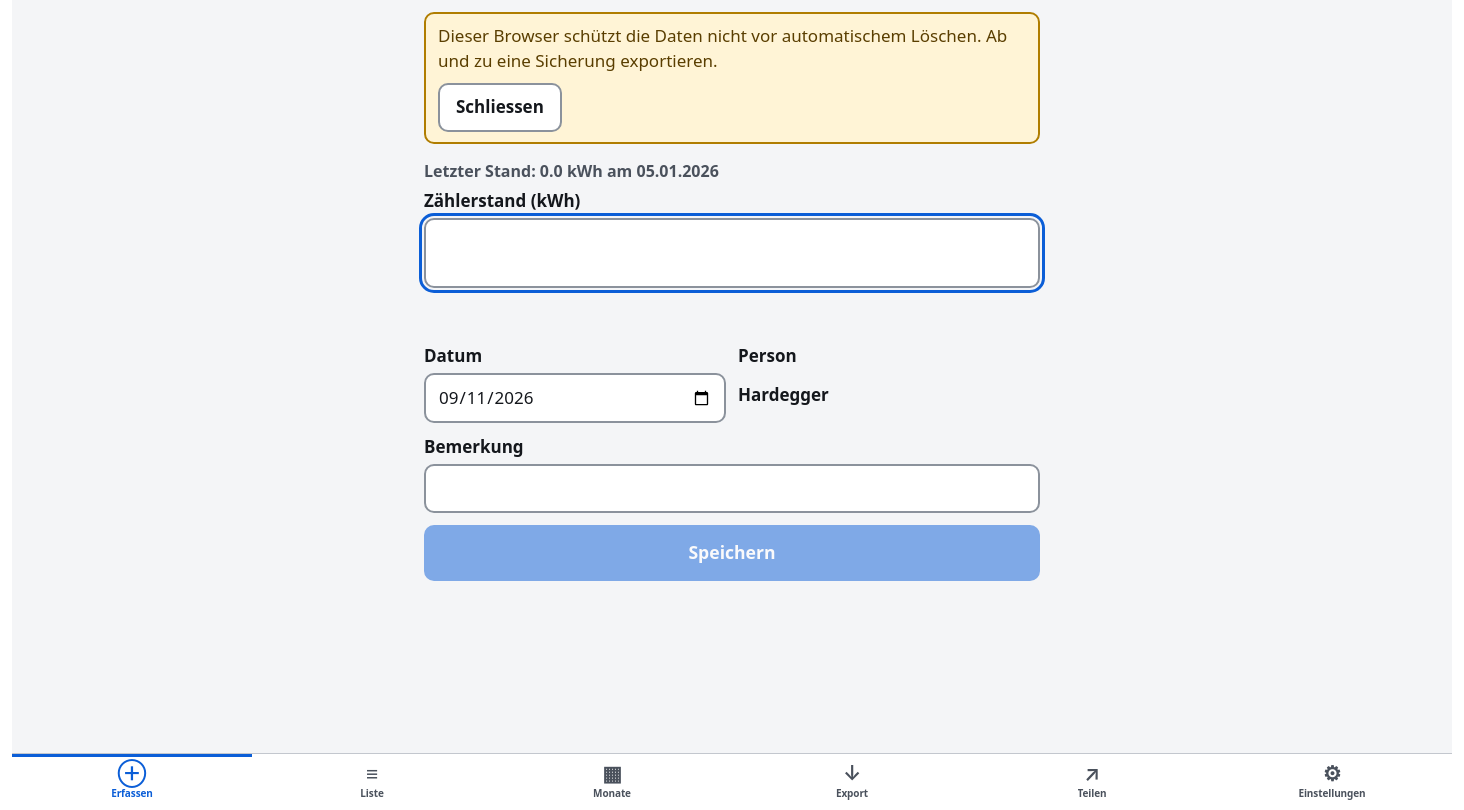
it: the monthly overview (FR-5) › says so when nothing has been consumed yet
Click the button "▦ Monate" at (612, 782), box [492,754,732,809]
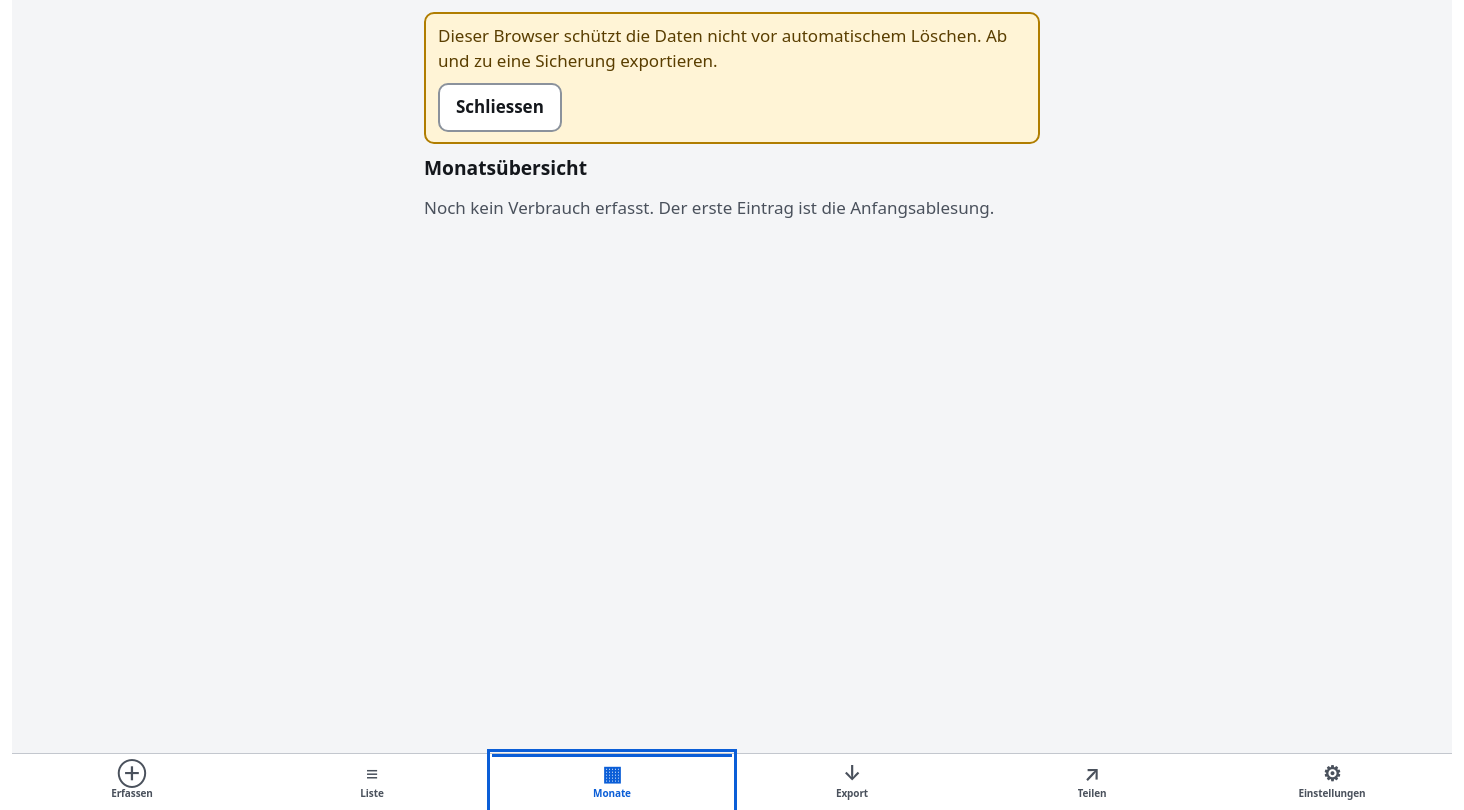
Expected: the text "Noch kein Verbrauch erfasst" is shown, [424,196,994,219]
